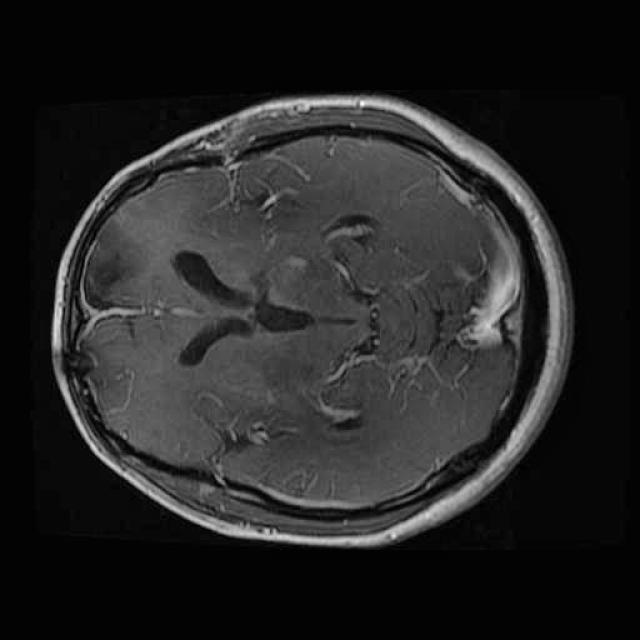Non-Tumor: (74, 201, 165, 309)
